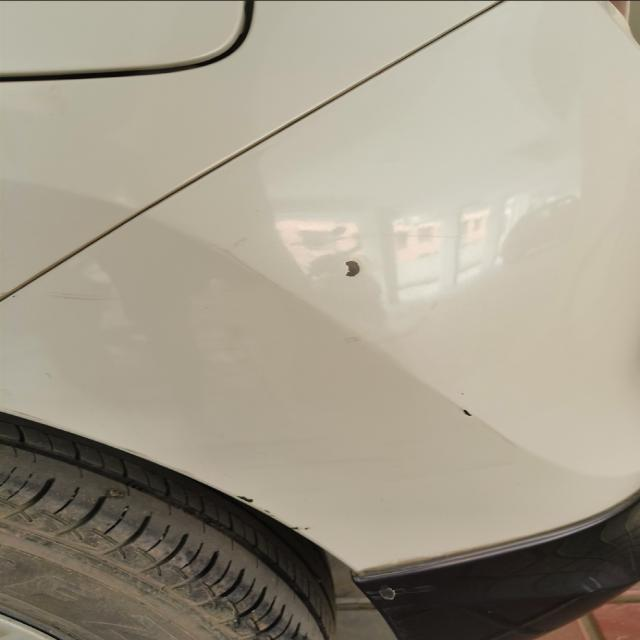scratch: (322, 250, 391, 290), (442, 401, 490, 422)
